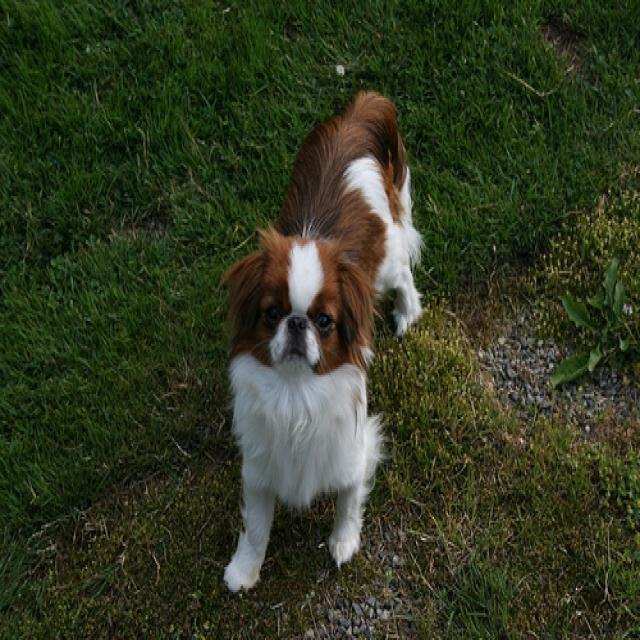dog-japanese_chin: (216, 75, 430, 598)
